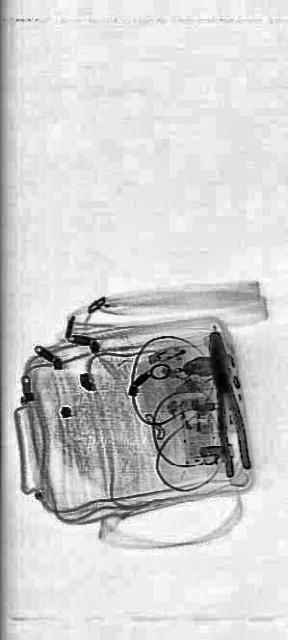Pliers: (202, 320, 252, 482)
